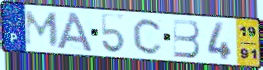4: (206, 21, 234, 62)
5: (100, 12, 129, 55)
A: (55, 11, 95, 54)
B: (171, 18, 202, 60)
C: (132, 17, 165, 56)
M: (23, 10, 60, 48)
